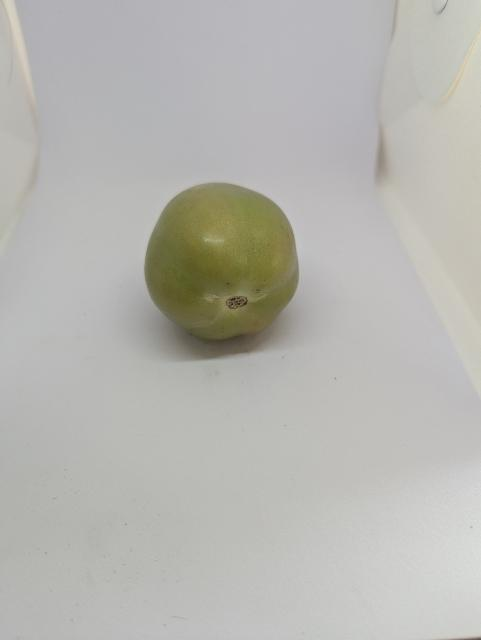green: (133, 174, 311, 360)
